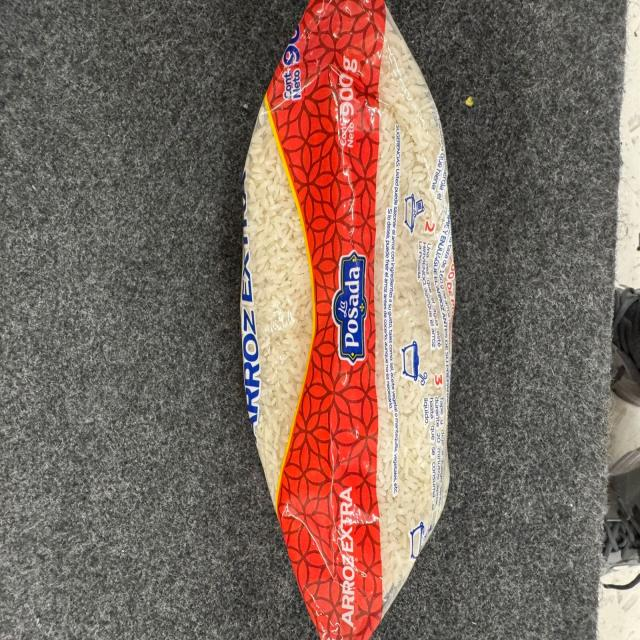Arroz La Posada 900 gr: (242, 0, 458, 640)
